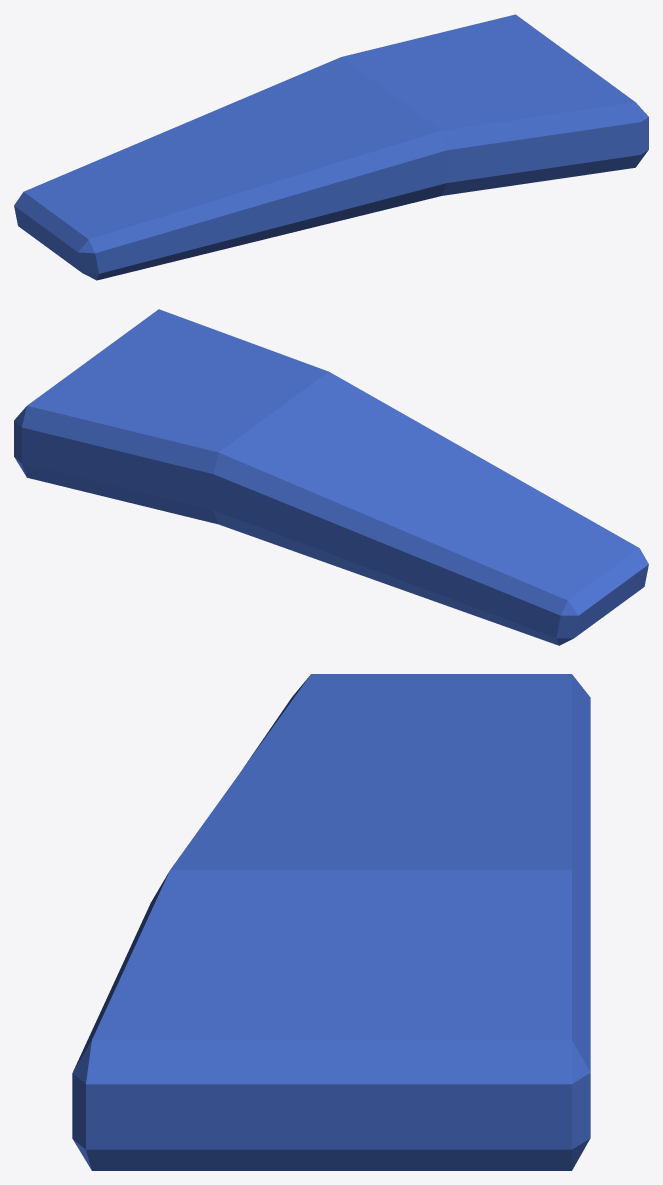
Rendered from Personal_Vehicle_03_Wings_Right_Blue.fbx.
3 views of the same model, one above another, from view 1: azimuth 30°, elevation 25°; view 2: azimuth 150°, elevation 25°; view 3: azimuth 270°, elevation 25° (orthographic). The views are drawn at different scales.
Parts seen in each view (by area): view 1: Personal_Vehicle_03_Wings_Right_Blue; view 2: Personal_Vehicle_03_Wings_Right_Blue; view 3: Personal_Vehicle_03_Wings_Right_Blue.
Part boxes in pixels (x1=…): Personal_Vehicle_03_Wings_Right_Blue: x1=14, y1=14, x2=648, y2=280; Personal_Vehicle_03_Wings_Right_Blue: x1=14, y1=309, x2=648, y2=645; Personal_Vehicle_03_Wings_Right_Blue: x1=72, y1=674, x2=590, y2=1170.
Size of the model in its own units: 76.65 by 14.31 by 33.49.
1 material, 1 textured.
